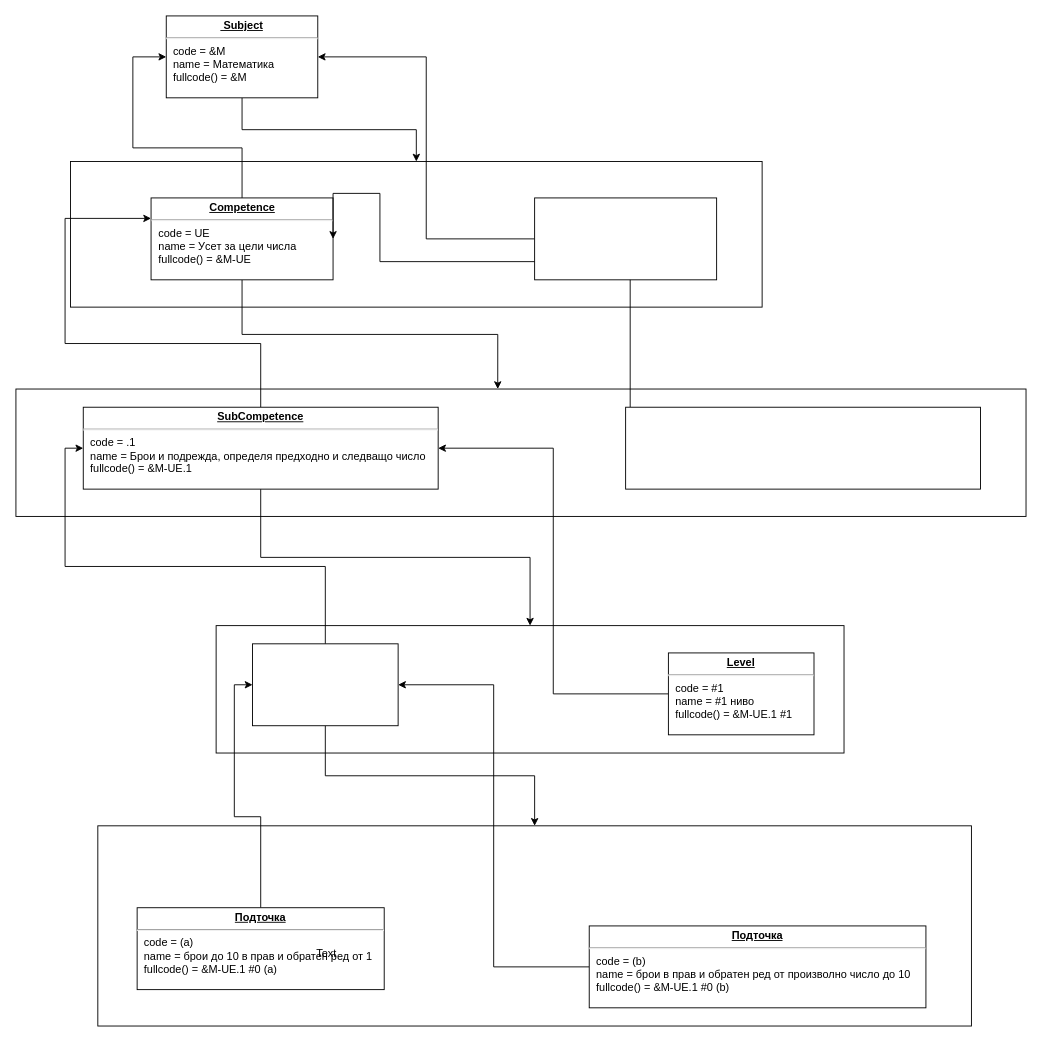
The diagram is 1042 pixels wide and 1042 high, and some of its shapes have lost their labels. The box of each missing label's shape, as (x1, y1, x2, y2) in pixels:
Competence code = NE name = Aритмeтикa c цeли чиcлa fullcode() = &M-NE: (534, 197, 717, 280)
Level code = #0 name = #0 ниво fullcode() = &M-UE.1 #0: (252, 643, 398, 726)
SubCompetence code = .2 name = Чeтe и пишe чиcлa fullcode() = &M-UE.2: (625, 406, 981, 489)
